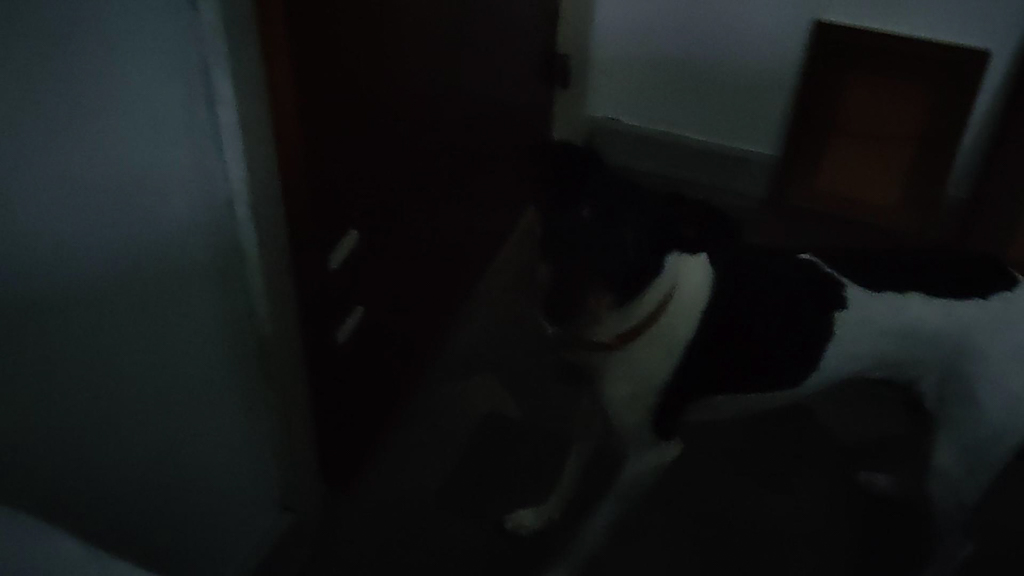Dog: (484, 114, 1024, 576)
